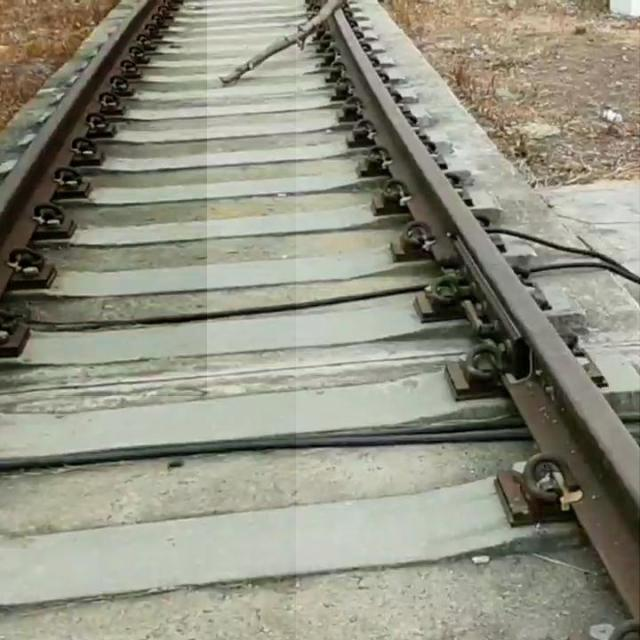rail: (297, 1, 640, 640), (1, 1, 208, 397)
